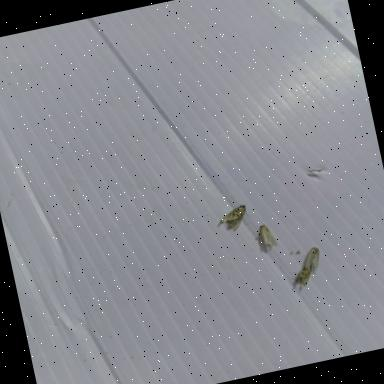pbw: (211, 200, 254, 235), (286, 254, 322, 288), (253, 218, 281, 254), (294, 242, 324, 272)
